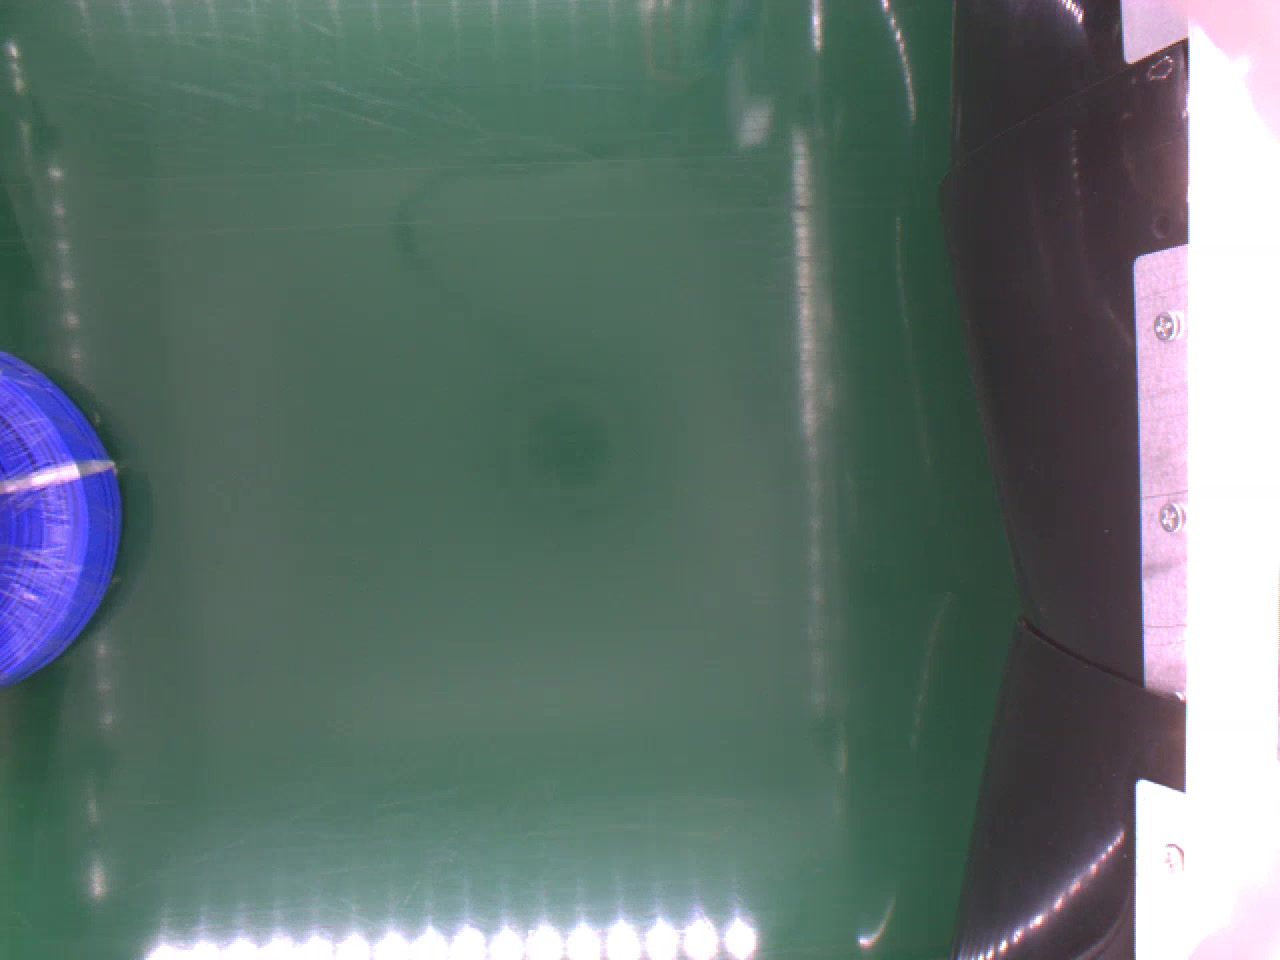blue: (0, 349, 123, 687)
